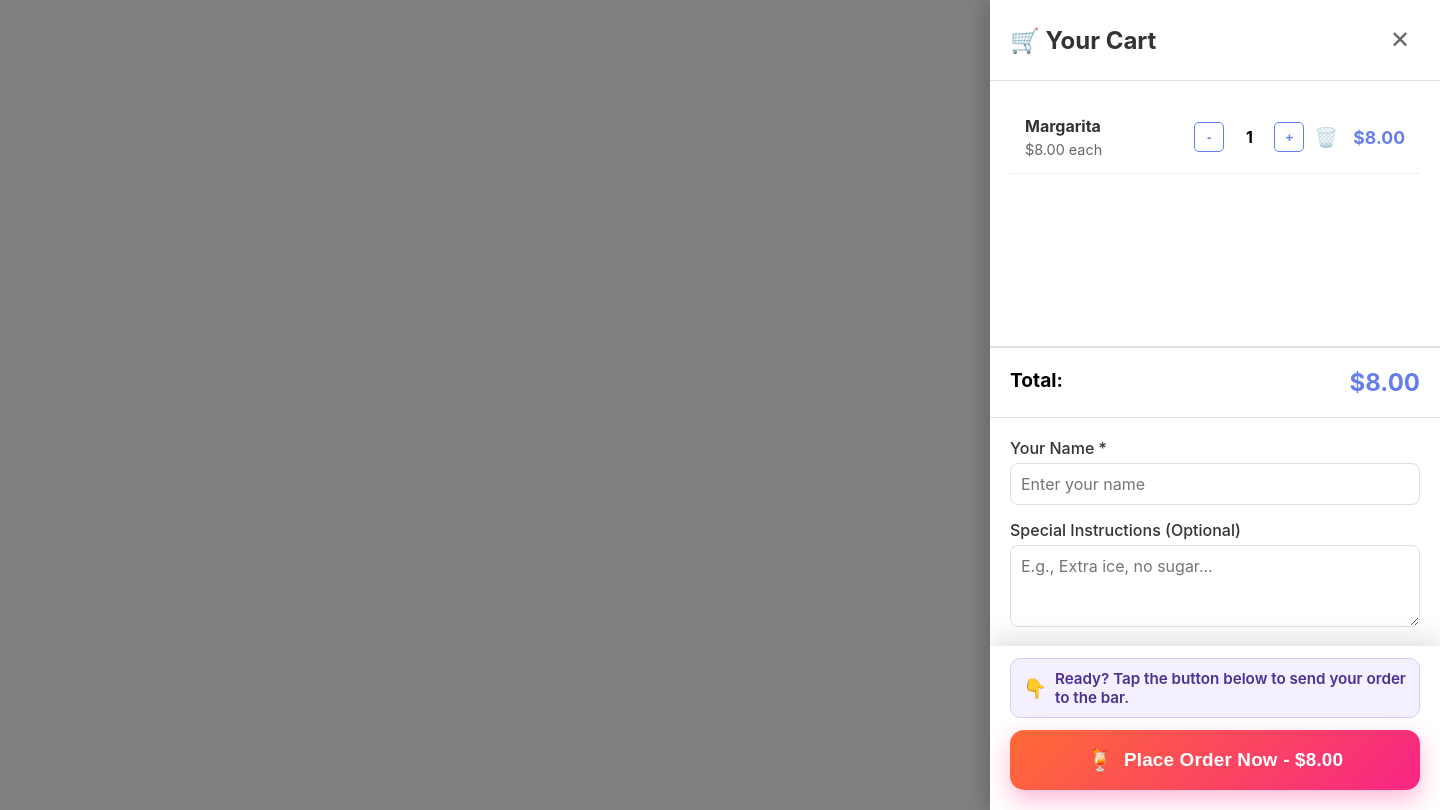
Test: Cart event status checkout guard › warns for upcoming events and keeps items in the cart
This screenshot has width=1440, height=810.
Type "Sam" into the field labelled "Your Name *". click: [1215, 484]
box: [1010,463,1420,505]
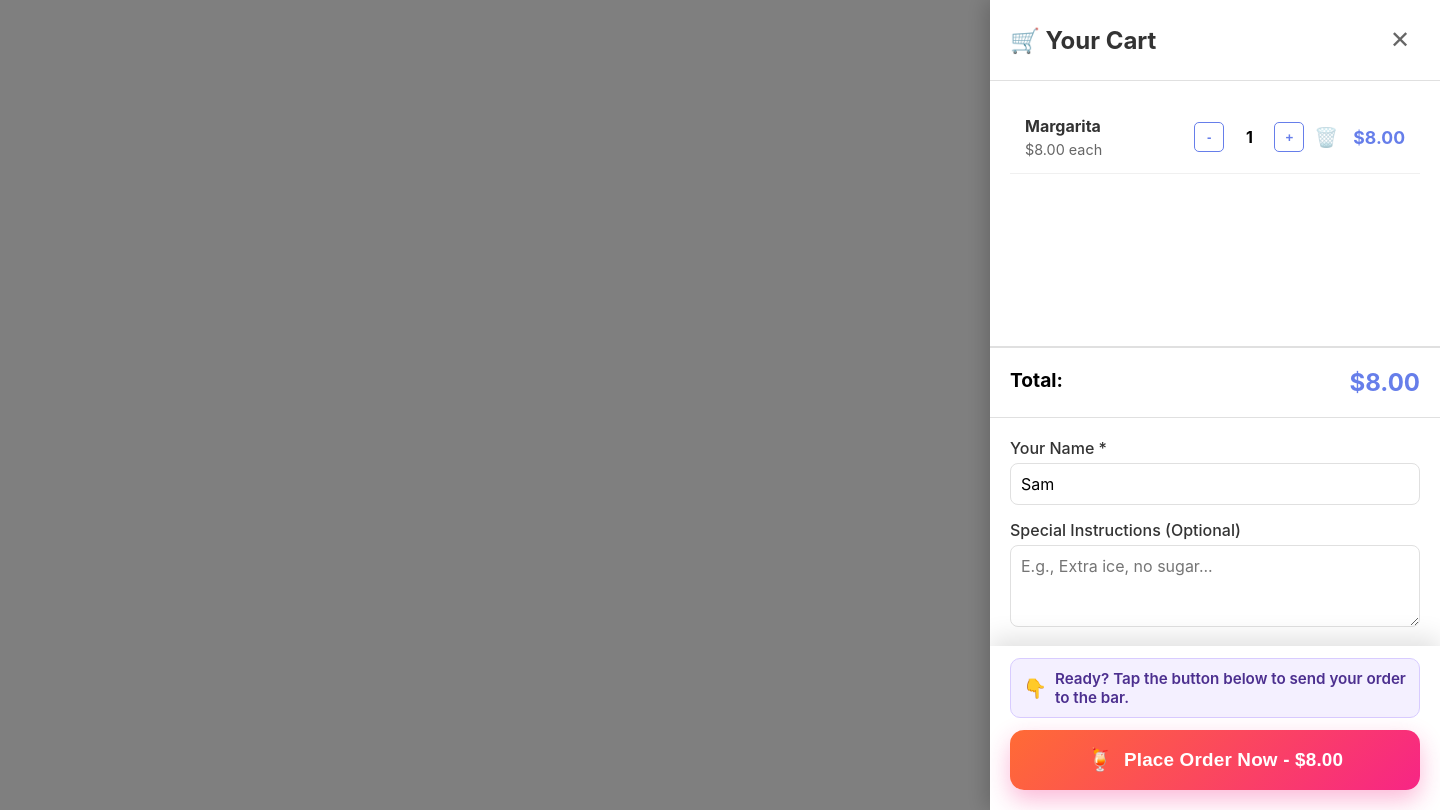
Click the button "🍹 Place Order Now - $8.00". click: [1215, 760]
box: [1010,730,1420,790]
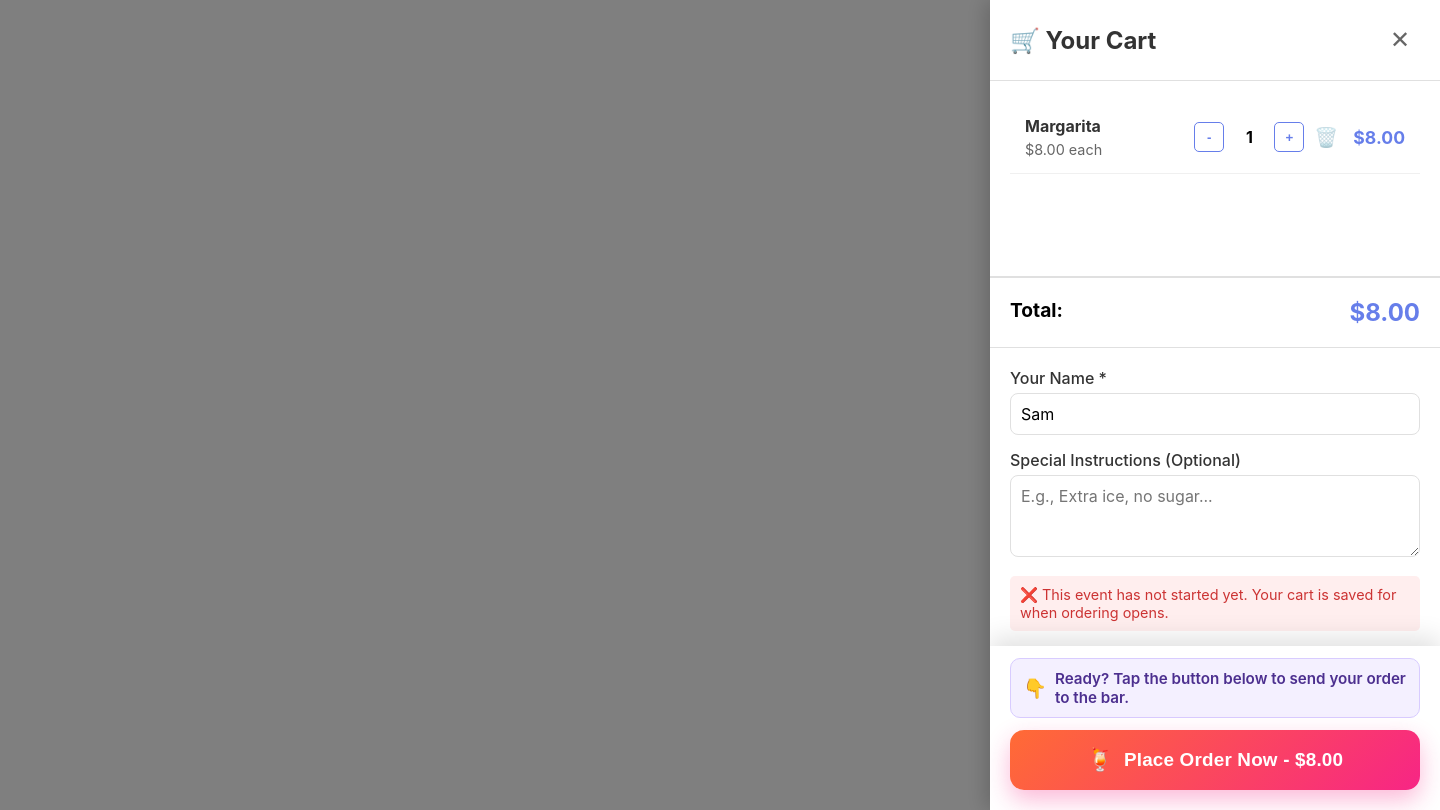
Result: the text "event has not started yet" is shown at [1020,586,1396,621]
